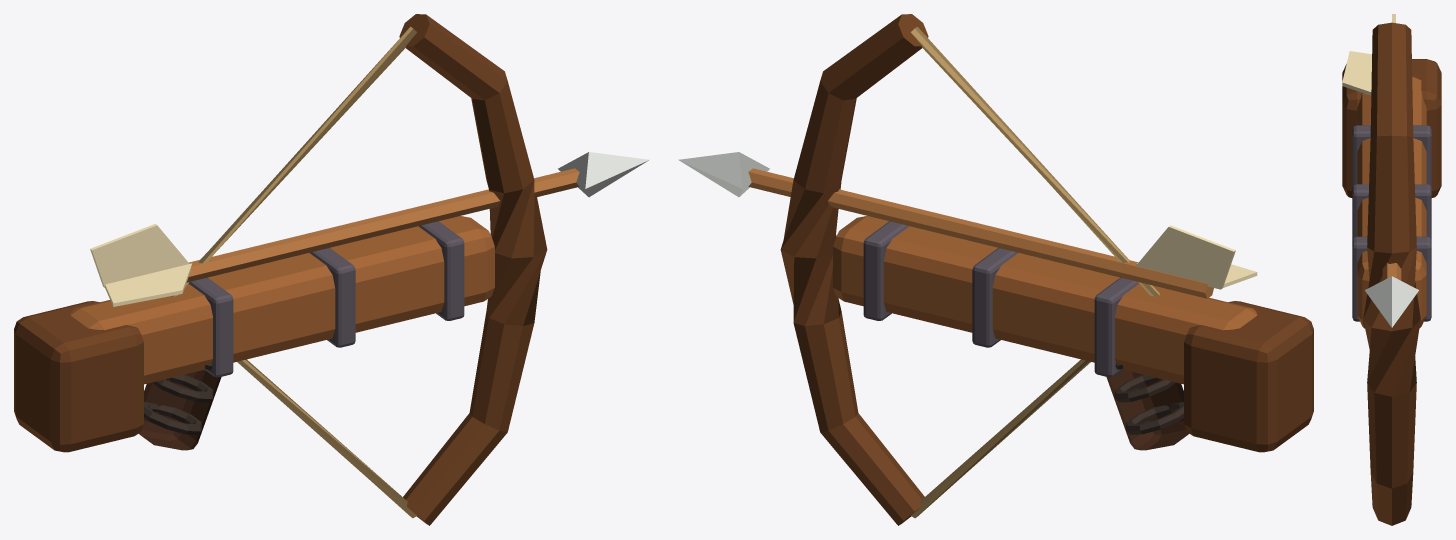
File: crossbow.glb
The picture shows the model from 3 angles, left to right: view 1: azimuth 30°, elevation 25°; view 2: azimuth 150°, elevation 25°; view 3: azimuth 270°, elevation 25°; orthographic projection.
Visible parts, largest first — view 1: Crossbow wooden stock, Crossbow curved bow limbs, Crossbow rear stock, Loaded crossbow bolt, Taut crossbow string, Loaded bolt ivory fletching 1, Crossbow pistol grip, Crossbow iron stock band.001, Crossbow iron stock band.002, Crossbow iron stock band, Loaded bolt ivory fletching 2, Crossbow bolt point (+2 smaller); view 2: Crossbow wooden stock, Crossbow curved bow limbs, Crossbow rear stock, Loaded crossbow bolt, Taut crossbow string, Loaded bolt ivory fletching 1, Crossbow pistol grip, Crossbow iron stock band.001, Crossbow iron stock band.002, Crossbow iron stock band, Crossbow bolt point, Woodland equipment worn binding (+1 smaller); view 3: Crossbow curved bow limbs, Crossbow wooden stock, Crossbow rear stock, Crossbow bolt point, Crossbow iron stock band.002, Crossbow iron stock band, Loaded bolt ivory fletching 2, Crossbow iron stock band.001, Loaded crossbow bolt.
Part boxes in pixels (box(x1,y1,x2,y2)): Crossbow wooden stock: box(70, 216, 494, 384); Crossbow curved bow limbs: box(399, 14, 547, 525); Crossbow rear stock: box(14, 301, 143, 452); Loaded crossbow bolt: box(186, 168, 579, 282); Taut crossbow string: box(171, 26, 416, 518); Loaded bolt ivory fletching 1: box(90, 224, 189, 287); Crossbow pistol grip: box(138, 370, 221, 450); Crossbow iron stock band.001: box(309, 248, 355, 347); Crossbow iron stock band.002: box(418, 221, 464, 320); Crossbow iron stock band: box(188, 277, 233, 377); Loaded bolt ivory fletching 2: box(105, 263, 192, 306); Crossbow bolt point: box(558, 152, 649, 197); Crossbow wooden stock: box(833, 216, 1257, 384); Crossbow curved bow limbs: box(780, 14, 928, 525); Crossbow rear stock: box(1184, 301, 1313, 452); Loaded crossbow bolt: box(748, 168, 1213, 298); Taut crossbow string: box(911, 26, 1159, 518); Loaded bolt ivory fletching 1: box(1136, 225, 1235, 289); Crossbow pistol grip: box(1106, 370, 1189, 450); Crossbow iron stock band.001: box(972, 248, 1018, 347); Crossbow iron stock band.002: box(863, 221, 909, 320); Crossbow iron stock band: box(1094, 277, 1138, 377); Crossbow bolt point: box(678, 152, 769, 197); Woodland equipment worn binding: box(1126, 402, 1183, 434); Crossbow curved bow limbs: box(1363, 22, 1420, 525); Crossbow wooden stock: box(1357, 76, 1426, 328); Crossbow rear stock: box(1342, 59, 1441, 197); Crossbow bolt point: box(1365, 276, 1418, 327); Crossbow iron stock band.002: box(1352, 236, 1431, 321); Crossbow iron stock band: box(1352, 125, 1431, 187); Loaded bolt ivory fletching 2: box(1342, 51, 1371, 95); Crossbow iron stock band.001: box(1352, 184, 1431, 239); Loaded crossbow bolt: box(1382, 263, 1401, 280).
Bounding box in the file's own units: 1.41 × 1.12 × 0.2.
